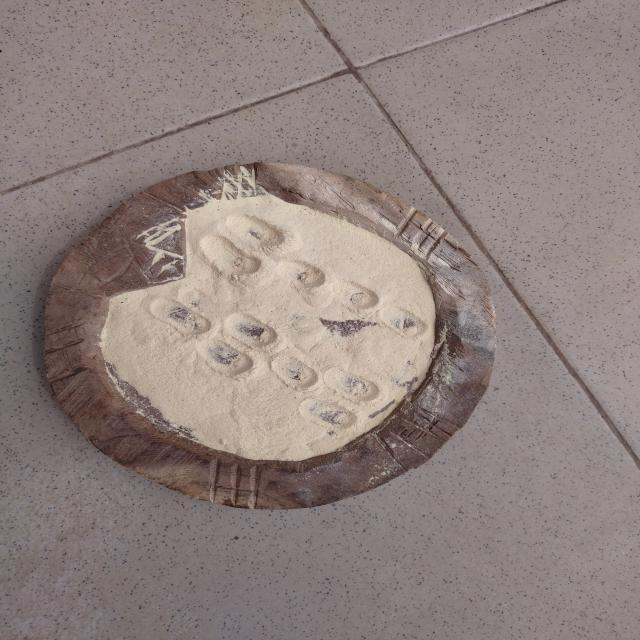double: (196, 212, 284, 276), (299, 369, 386, 426), (200, 312, 276, 374)
single: (146, 296, 212, 336), (376, 304, 432, 343), (272, 258, 330, 288), (326, 279, 388, 307), (268, 354, 320, 387)
